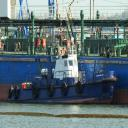tugboat: (8, 37, 121, 110)
